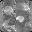people: (3, 6, 15, 17), (2, 19, 13, 29), (16, 15, 24, 23)
